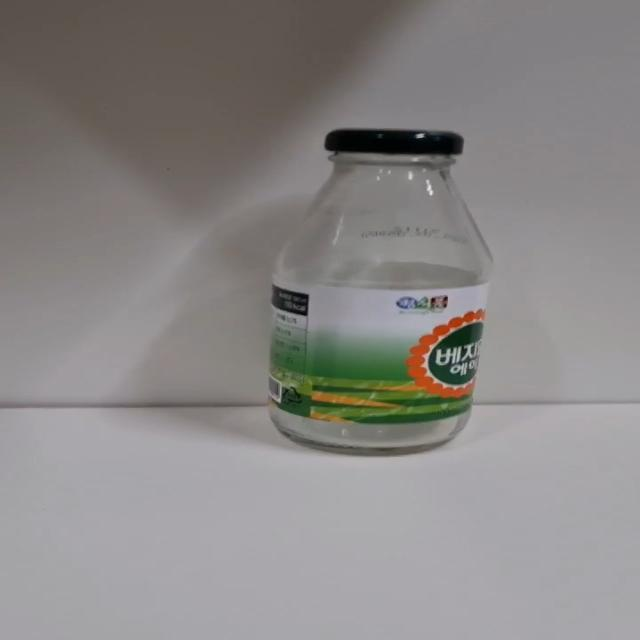Glass: (267, 120, 493, 456)
